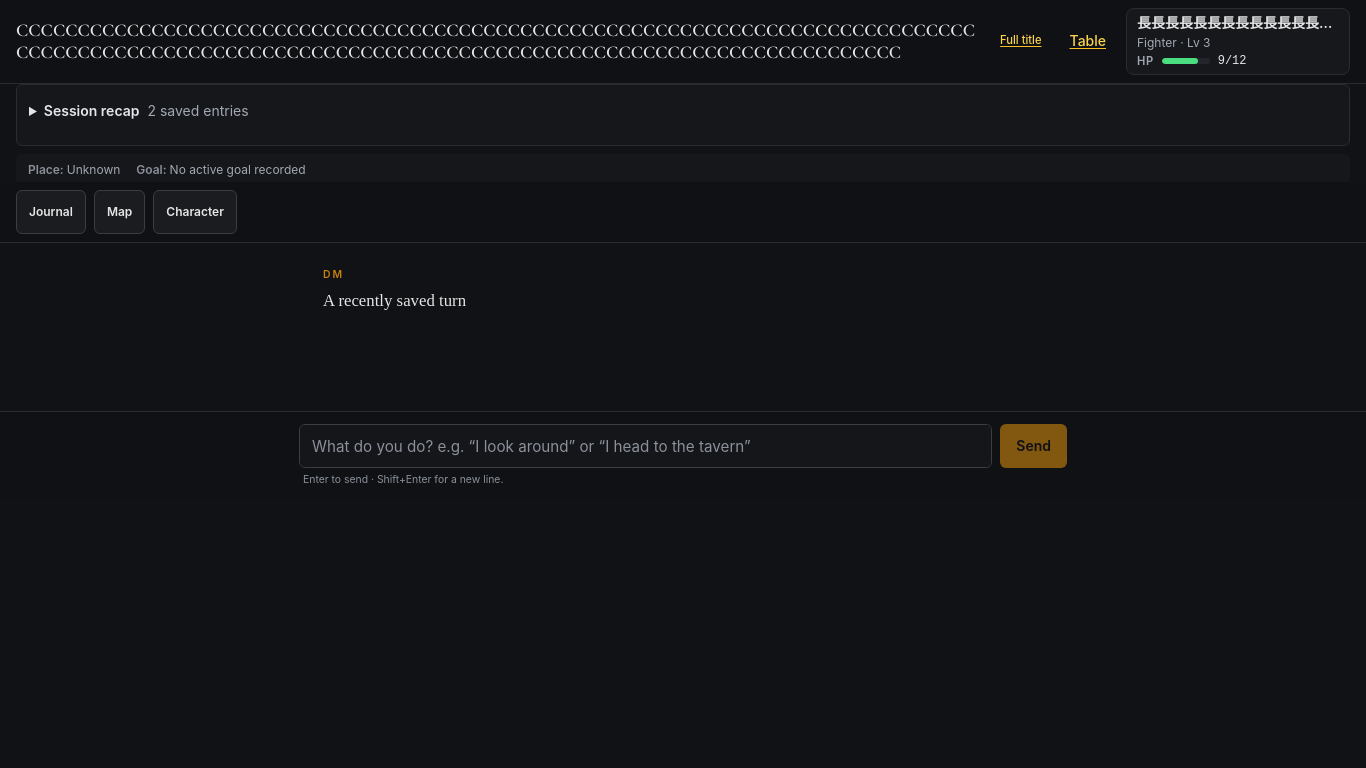
Test: keeps very long campaign and hero names compact while exposing their full names
This screenshot has width=1366, height=768.
Click the heading "Full title": {"x": 1021, "y": 40} x1=1000 y1=34 x2=1042 y2=48
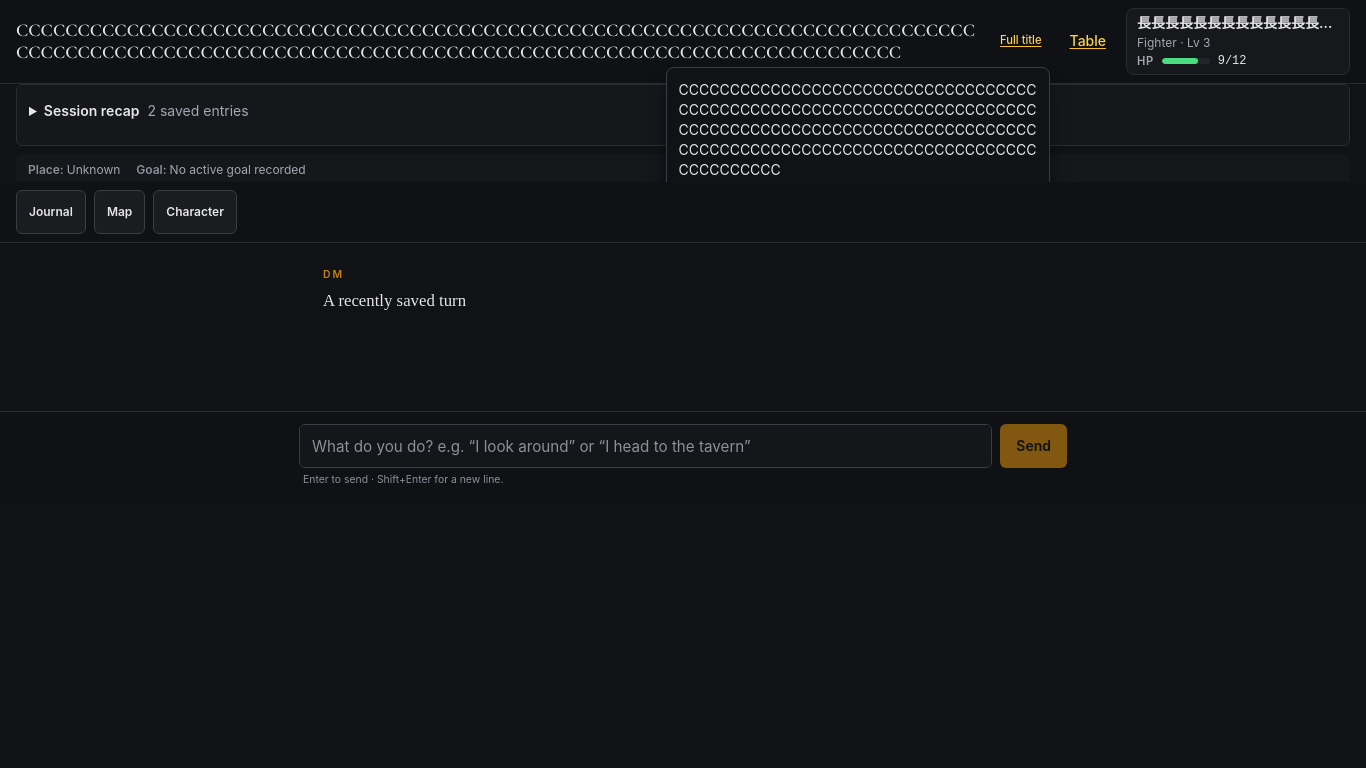
Click the 1st button: {"x": 1238, "y": 41} x1=1126 y1=8 x2=1350 y2=75
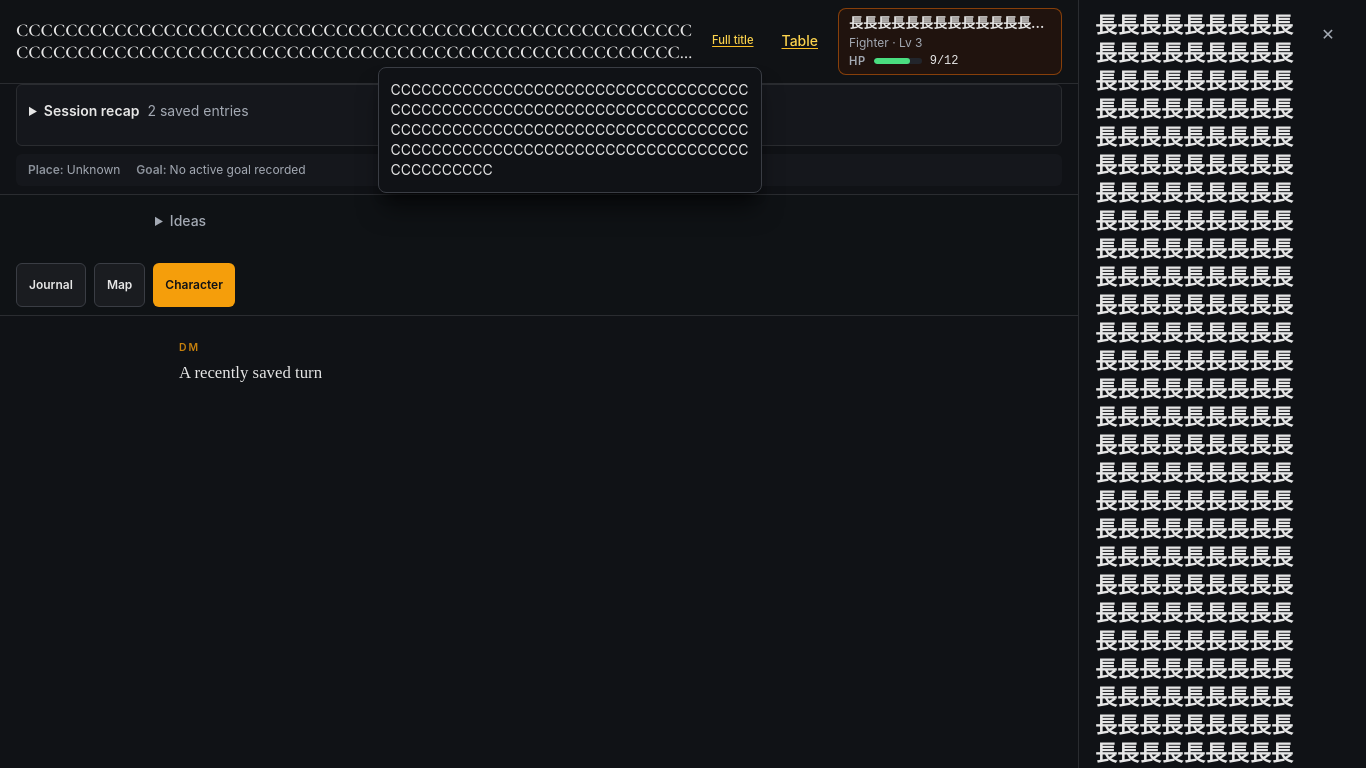
Click the button named "Close character sheet": {"x": 1328, "y": 34} x1=1306 y1=12 x2=1350 y2=56
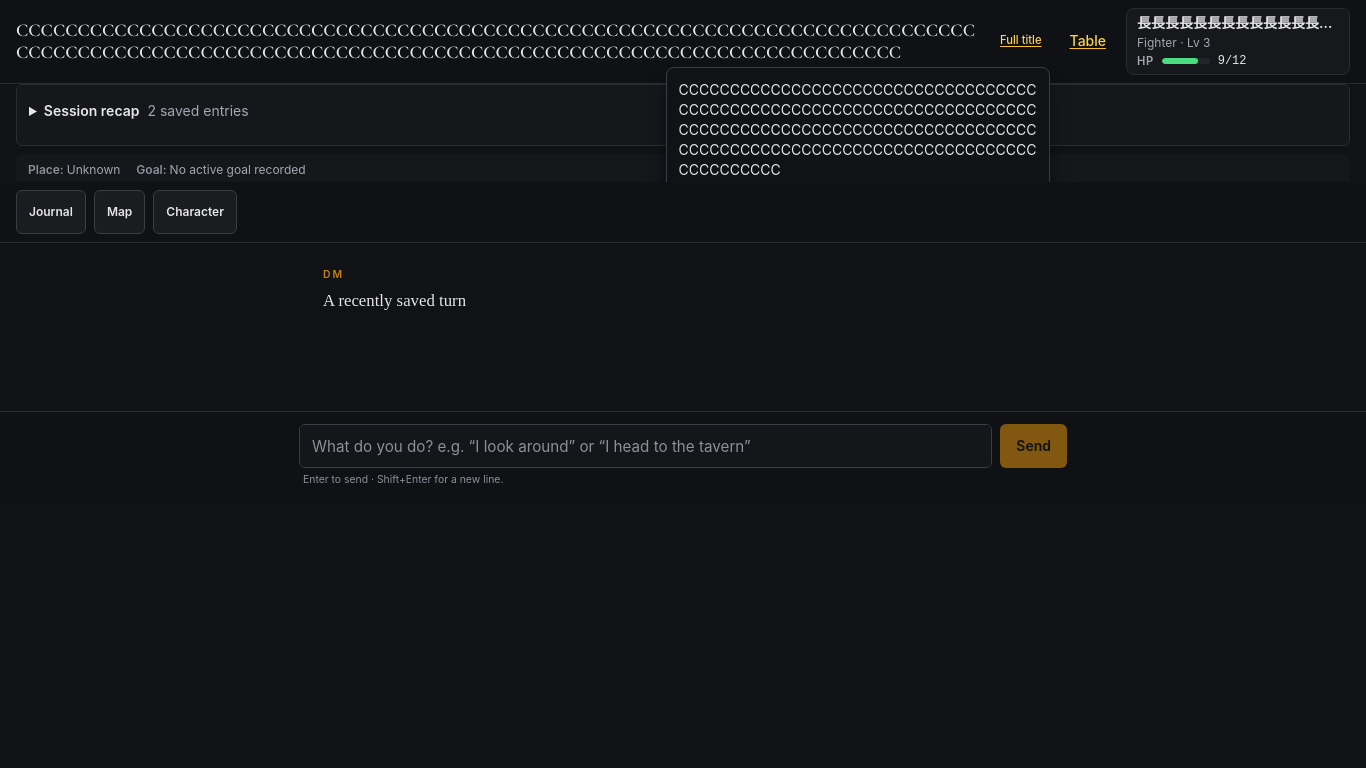
Click the button "Journal": {"x": 51, "y": 212} x1=16 y1=190 x2=86 y2=234
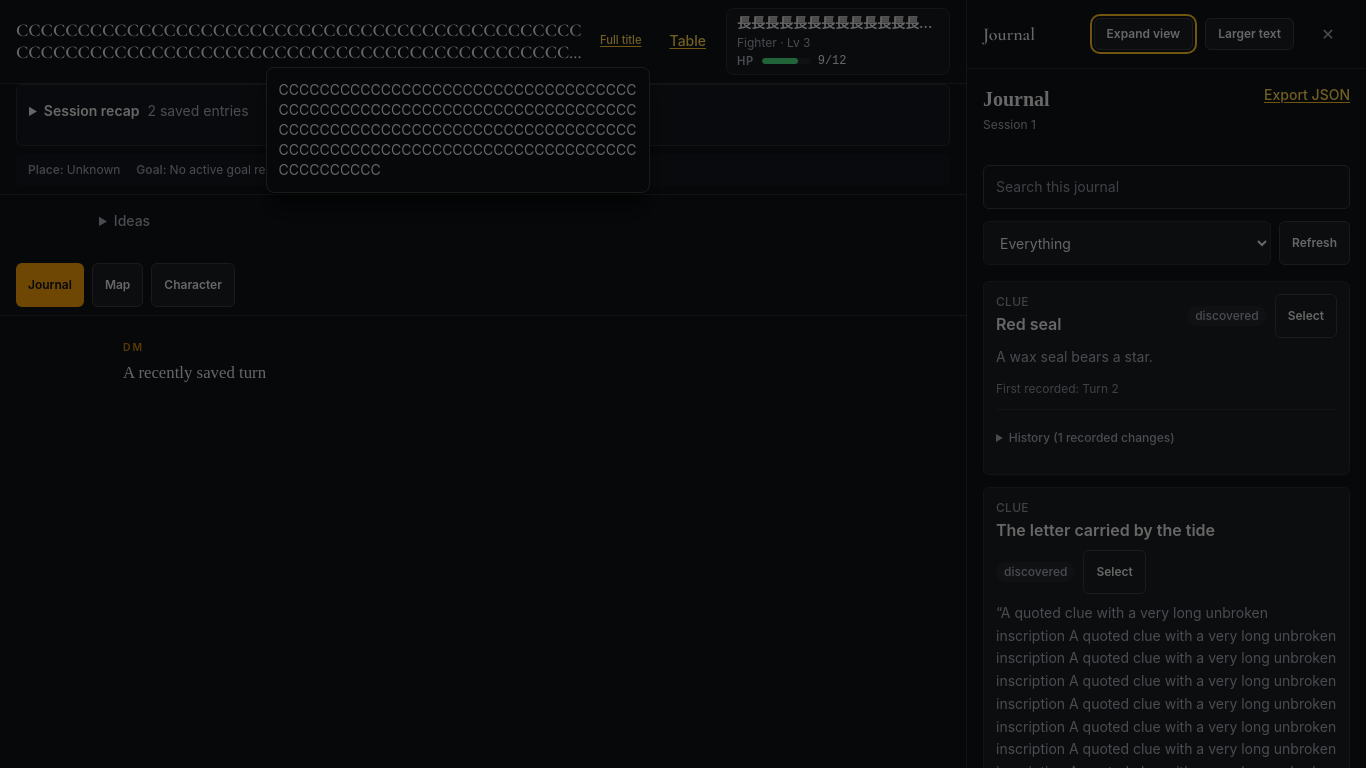
Expected: the dialog named "Journal tool" shows "The letter carried by the tide", x1=996 y1=520 x2=1215 y2=540
